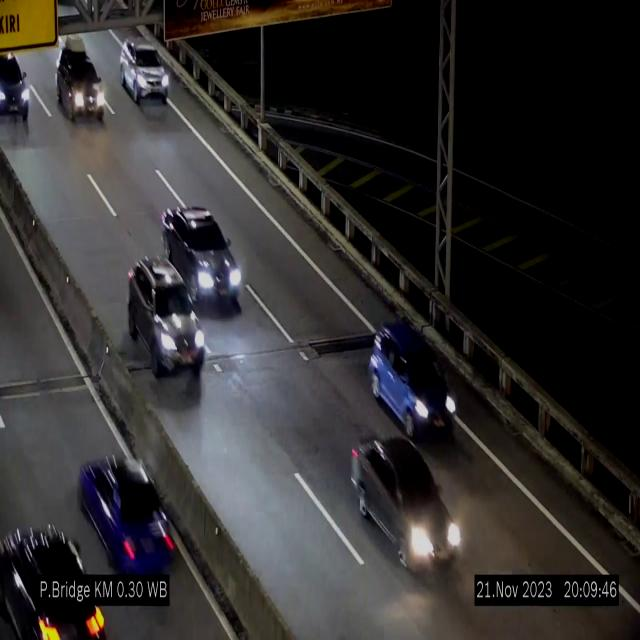Car: (345, 435, 464, 584), (372, 320, 460, 447), (128, 259, 205, 375), (162, 206, 243, 310), (56, 30, 108, 134), (120, 41, 170, 104)
